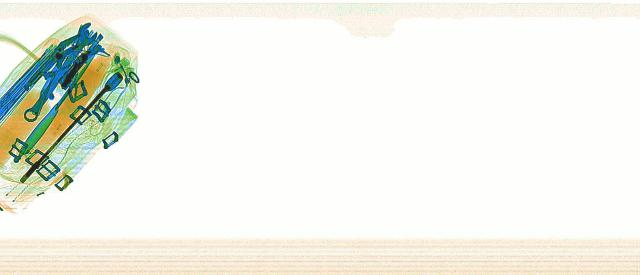Knife: (14, 45, 106, 154)
Wrench: (13, 20, 107, 121)
